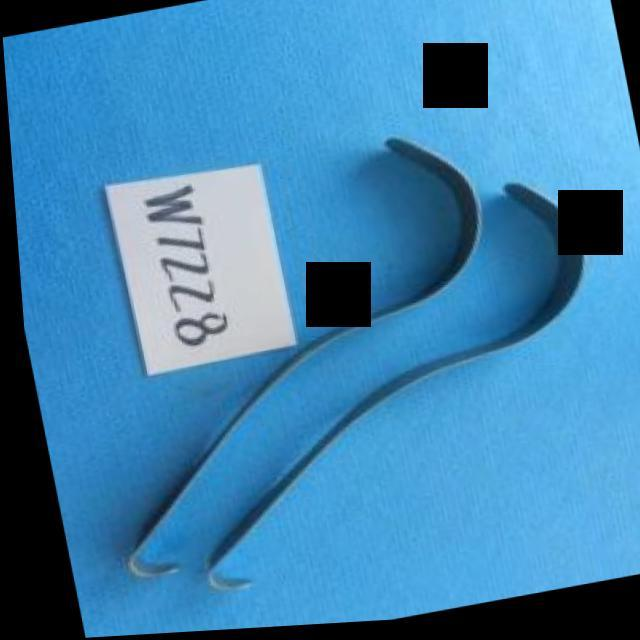Deaver Retractor: (38, 126, 537, 590), (126, 167, 638, 608)
